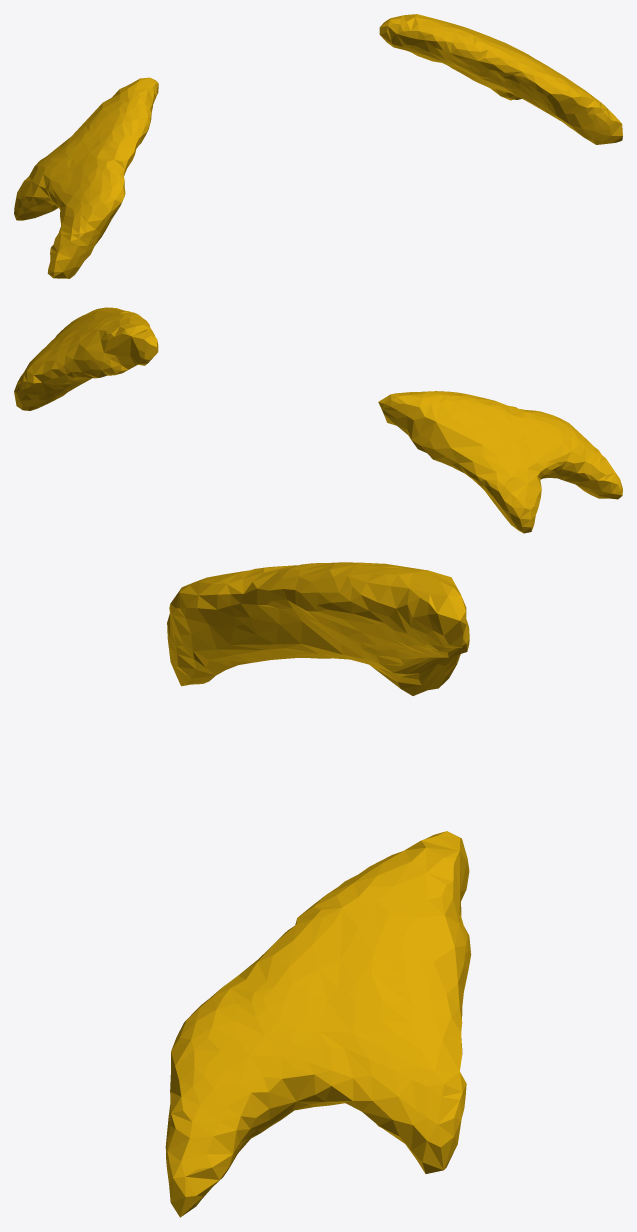
File: 235-PG-parietal area PG-('1.0000', '0.7647', '0.0000').obj
The picture shows the model from 3 angles, top to bottom: view 1: azimuth 30°, elevation 25°; view 2: azimuth 150°, elevation 25°; view 3: azimuth 270°, elevation 25°; orthographic projection. The views are drawn at different scales.
Size of the model in its own units: 290 by 56.76 by 66.76.
